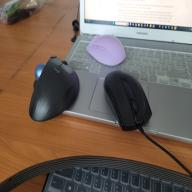mouse: (29, 54, 80, 122), (104, 70, 152, 133), (86, 34, 127, 66)
